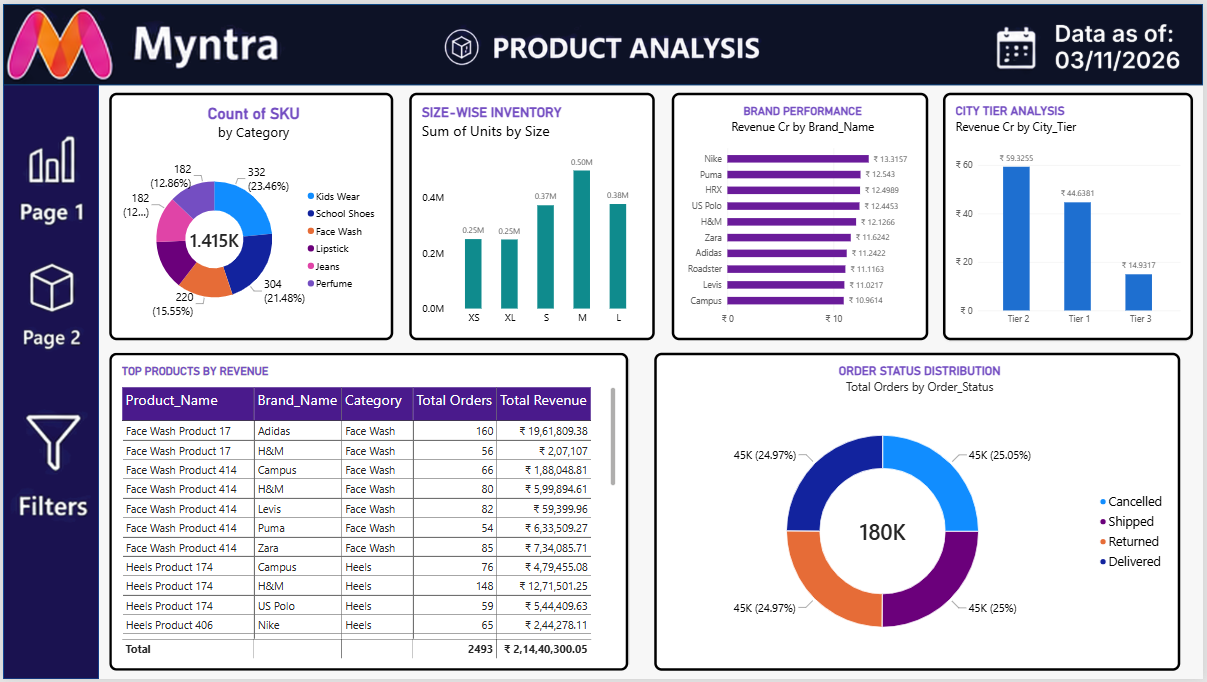

This screenshot's page, from the dashboard's own definition file:
{"tool":"powerbi","page":{"name":"Product Analysis","canvas":[1920,1080],"ordinal":1},"visuals":[{"type":"shape","box":[0,0,153.8,1080.4],"z":0},{"type":"shape","box":[0,0,1920,130],"z":1},{"type":"image","box":[0,0,451.9,130.8],"z":2},{"type":"image","box":[1582.7,7.7,300,130.8],"z":3},{"type":"image","box":[11.5,205.8,132.7,151.9],"z":4},{"type":"image","box":[16,412,128,144],"z":5},{"type":"image","box":[12,646,128.8,186.5],"z":6},{"type":"image","box":[704,20,510,92],"z":7},{"type":"donutChart","fields":{"Category":["Catalog.Category"],"Y":["CountNonNull(Catalog.SKU)"]},"box":[170.1,143,454.2,396.3],"z":9},{"type":"clusteredColumnChart","title":"SIZE-WISE INVENTORY","fields":{"Category":["SizeData.Size"],"Y":["Sum(SizeData.Units)"]},"box":[649.7,143,392.7,396.3],"z":10},{"type":"clusteredBarChart","title":"BRAND PERFORMANCE","fields":{"Category":["Orders.Brand_Name"],"Y":["Orders.Revenue Cr"]},"box":[1069.5,143,410.8,396.3],"z":11},{"type":"clusteredColumnChart","title":"CITY TIER ANALYSIS","fields":{"Category":["Orders.City_Tier"],"Y":["Orders.Revenue Cr"]},"box":[1503.8,143,399.9,396.3],"z":12},{"type":"tableEx","title":"TOP PRODUCTS BY REVENUE","fields":{"Values":["Catalog.Product_Name","Orders.Brand_Name","Catalog.Category","Orders.Total Orders","Orders.Total Revenue"]},"box":[170.1,557.4,830.6,508.5],"z":13},{"type":"donutChart","title":"ORDER STATUS DISTRIBUTION","fields":{"Category":["Orders.Order_Status"],"Y":["Orders.Total Orders"]},"box":[1042.4,557.4,841.5,508.5],"z":14}]}

Visuals, with their boxes in screenshot pixels (x1, y1, x2, y2):
shape: <bbox>0, 0, 95, 670</bbox>
shape: <bbox>0, 0, 1190, 81</bbox>
image: <bbox>0, 0, 280, 81</bbox>
image: <bbox>981, 5, 1167, 86</bbox>
image: <bbox>7, 128, 89, 222</bbox>
image: <bbox>10, 255, 89, 345</bbox>
image: <bbox>7, 400, 87, 516</bbox>
image: <bbox>436, 12, 753, 69</bbox>
donutChart - Catalog.Category x CountNonNull(Catalog.SKU): <bbox>105, 89, 387, 334</bbox>
"SIZE-WISE INVENTORY" clusteredColumnChart: <bbox>403, 89, 646, 334</bbox>
"BRAND PERFORMANCE" clusteredBarChart: <bbox>663, 89, 918, 334</bbox>
"CITY TIER ANALYSIS" clusteredColumnChart: <bbox>932, 89, 1180, 334</bbox>
"TOP PRODUCTS BY REVENUE" tableEx: <bbox>105, 346, 620, 661</bbox>
"ORDER STATUS DISTRIBUTION" donutChart: <bbox>646, 346, 1168, 661</bbox>
